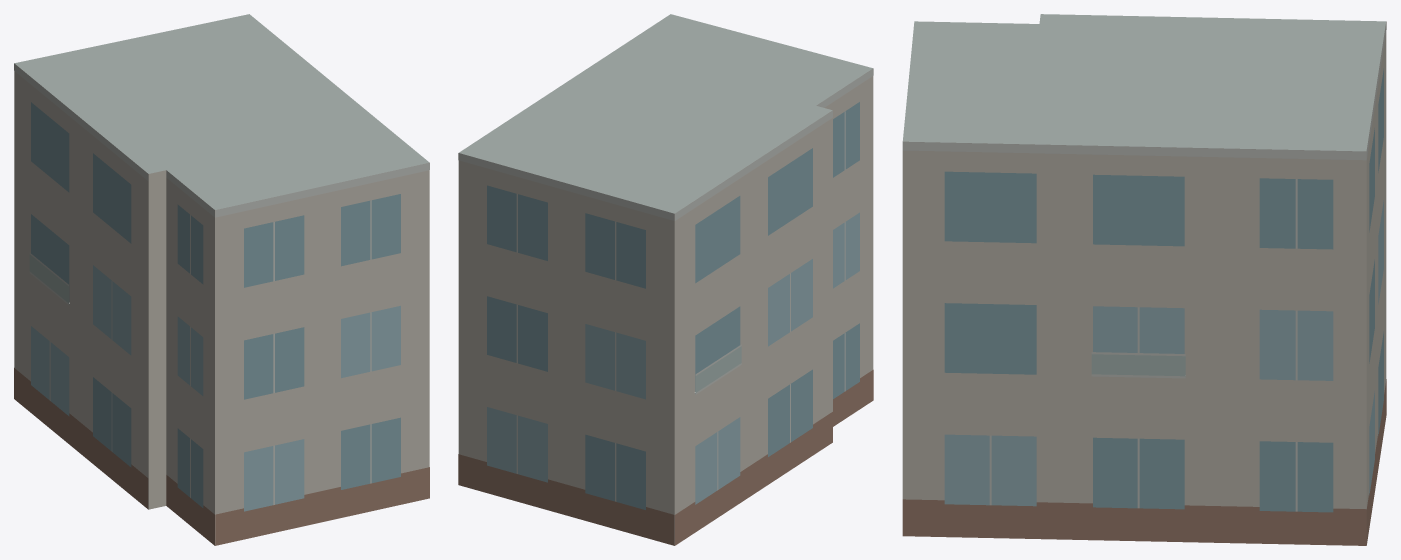
The model's file is survey-upis-33039475.glb.
The picture shows the model from 3 angles, left to right: view 1: azimuth 30°, elevation 25°; view 2: azimuth 150°, elevation 25°; view 3: azimuth 270°, elevation 25°; orthographic projection. The views are drawn at different scales.
Parts seen in each view (by area): view 1: survey-upis-33039475.tmp; view 2: survey-upis-33039475.tmp; view 3: survey-upis-33039475.tmp.
Boxes of the visible parts, <box> form: survey-upis-33039475.tmp: <box>14,14,429,545</box>; survey-upis-33039475.tmp: <box>458,14,873,545</box>; survey-upis-33039475.tmp: <box>902,14,1386,545</box>.
Size of the model in its own units: 8.15 by 10.9 by 12.12.
